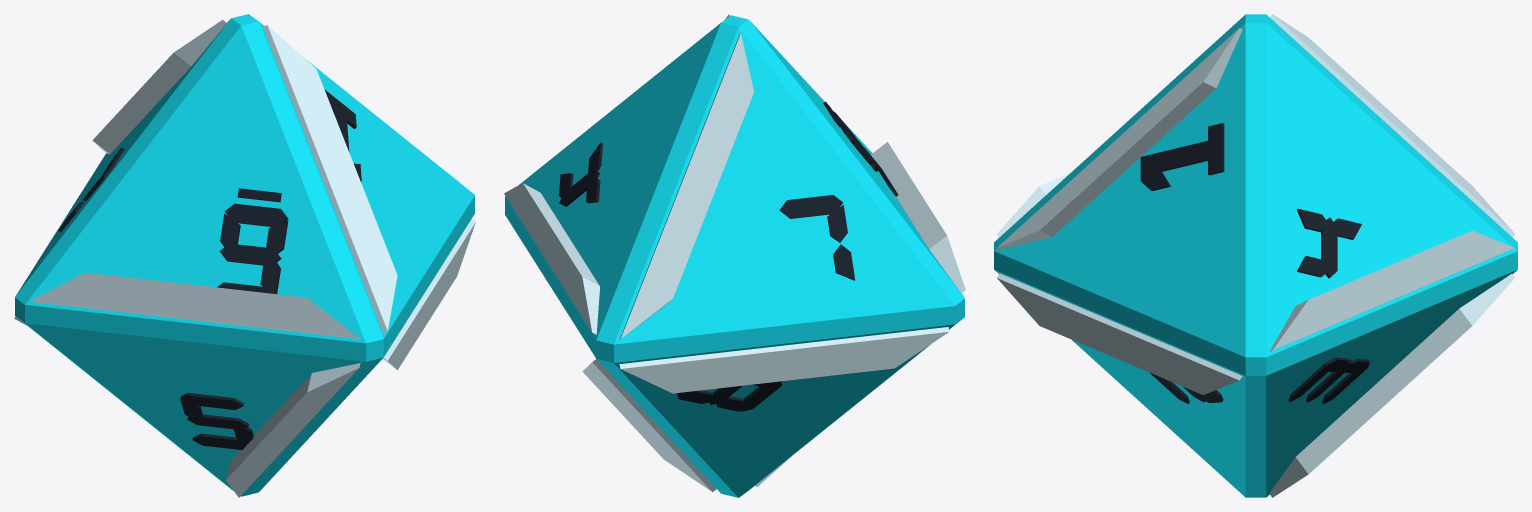
3 renders of one model, left to right at view 1: azimuth 30°, elevation 25°; view 2: azimuth 150°, elevation 25°; view 3: azimuth 270°, elevation 25°, orthographic.
Visible parts, largest first — view 1: CUTLINE d8 canonical sculpture; view 2: CUTLINE d8 canonical sculpture; view 3: CUTLINE d8 canonical sculpture.
Part boxes in pixels (left/top/right/bottom): CUTLINE d8 canonical sculpture: left=14, top=14, right=475, bottom=497; CUTLINE d8 canonical sculpture: left=504, top=14, right=965, bottom=497; CUTLINE d8 canonical sculpture: left=994, top=14, right=1517, bottom=497.
Bounding box in the file's own units: 1.86 × 1.86 × 1.86.
